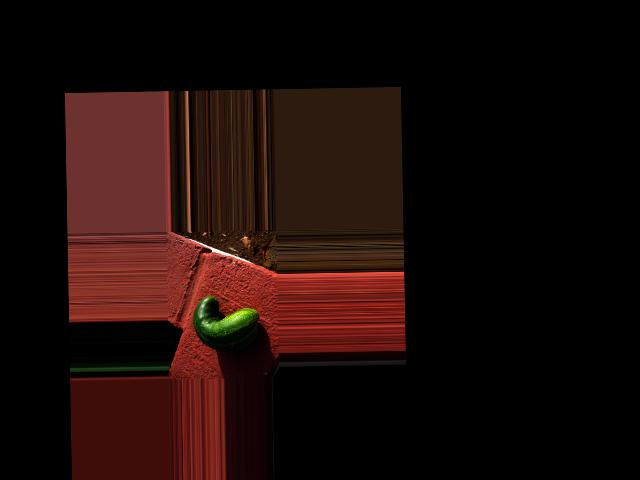cucumber: (192, 294, 259, 351)
